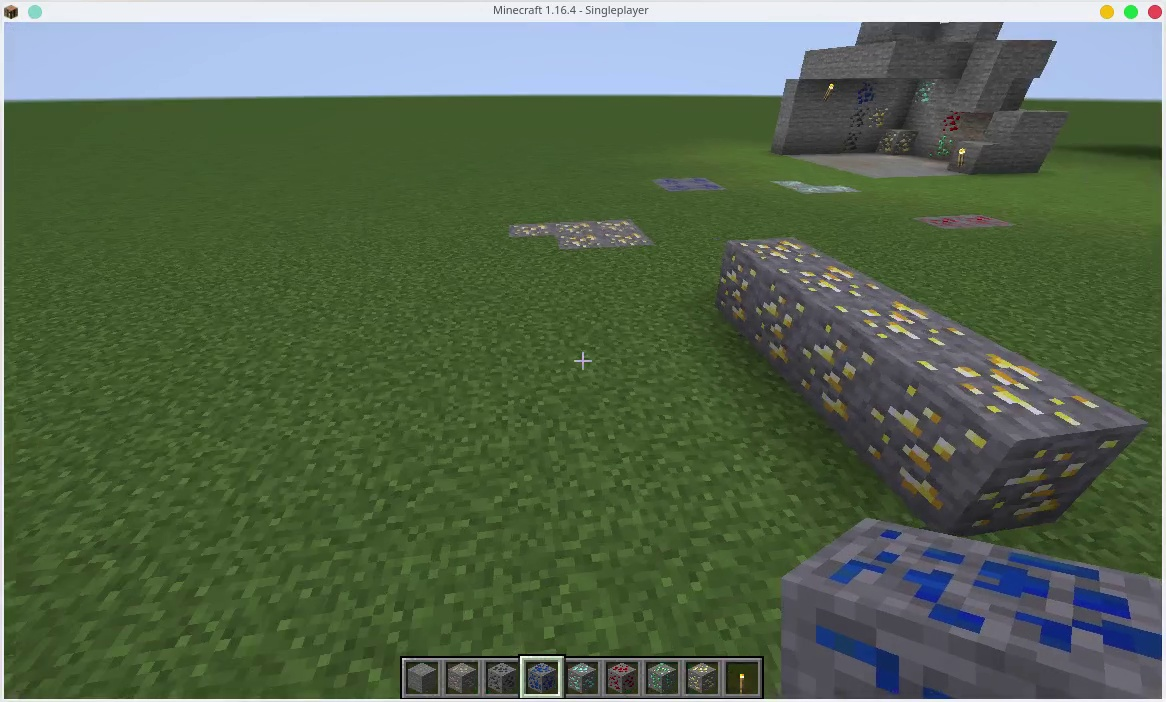gold: (912, 354, 1121, 523), (800, 330, 872, 422), (868, 299, 954, 355), (715, 252, 761, 326), (800, 268, 874, 310), (763, 293, 800, 369), (739, 232, 801, 270), (557, 222, 602, 247), (685, 662, 715, 693), (879, 127, 916, 152), (609, 228, 652, 245), (867, 107, 890, 127), (522, 222, 545, 234), (600, 222, 633, 228)
